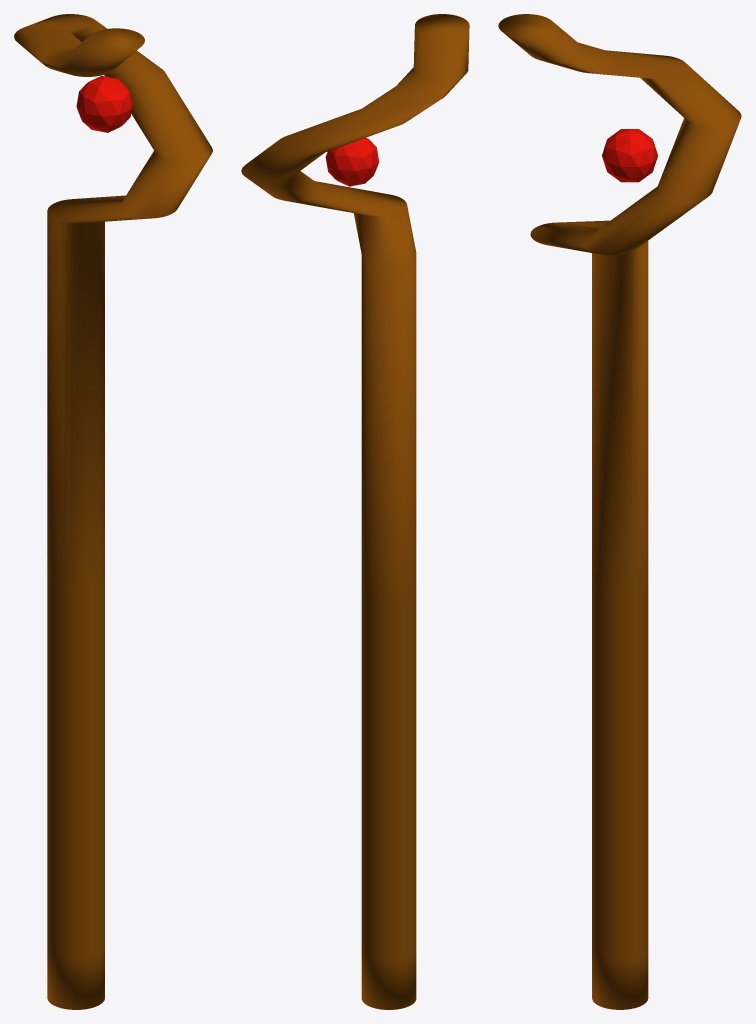
The model's file is STAFF.fbx.
3 views of the same model, side by side, from view 1: azimuth 30°, elevation 25°; view 2: azimuth 150°, elevation 25°; view 3: azimuth 270°, elevation 25° (orthographic). The views are drawn at different scales.
Parts seen in each view (by area): view 1: Cylinder, Icosphere; view 2: Cylinder, Icosphere; view 3: Cylinder, Icosphere.
Part boxes in pixels (x1,y1,x2,y2): Cylinder: [14, 14, 212, 1009]; Icosphere: [76, 75, 132, 132]; Cylinder: [241, 14, 469, 1009]; Icosphere: [325, 137, 379, 186]; Cylinder: [498, 14, 741, 1009]; Icosphere: [602, 129, 658, 182].
Bounding box in the file's own units: 699 × 3790 × 863.
